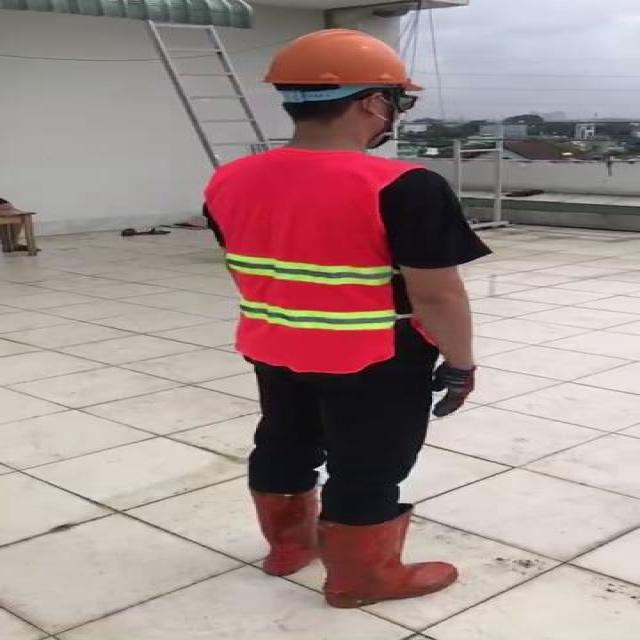boots: (318, 509, 459, 608), (246, 488, 318, 579)
hand_glove: (431, 364, 476, 416)
head_helmet: (257, 22, 436, 98)
person: (178, 23, 505, 620)
vest: (206, 150, 414, 371)
